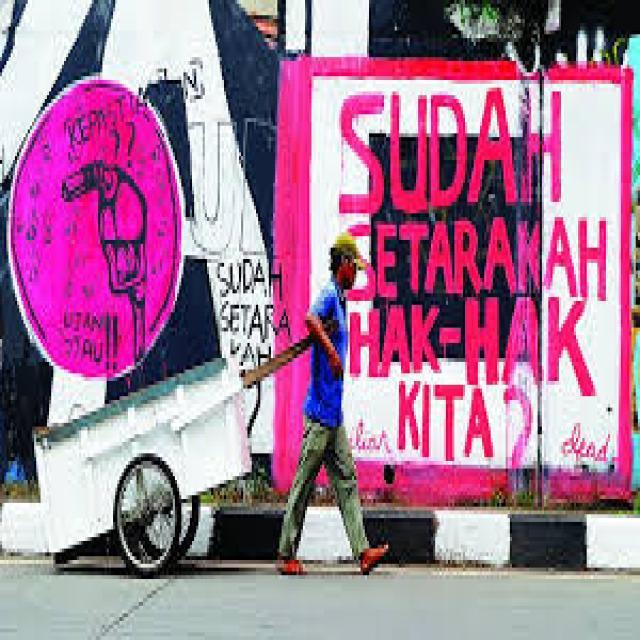-: (277, 57, 631, 495), (12, 72, 179, 373), (217, 254, 290, 432)
